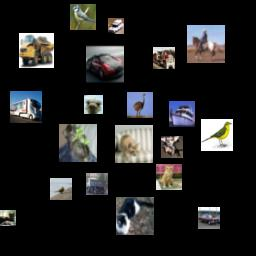automobile: (86, 45, 124, 83), (198, 207, 220, 229), (108, 18, 124, 34)
bird: (201, 119, 233, 151), (70, 4, 96, 30), (127, 92, 153, 118), (50, 178, 72, 200), (84, 95, 103, 114)
cat: (116, 197, 154, 235), (59, 124, 97, 162), (115, 125, 153, 163), (156, 164, 182, 190), (0, 210, 16, 226)
dog: (161, 136, 183, 158)
ship: (169, 101, 195, 127)
truck: (19, 33, 54, 68), (10, 91, 42, 123), (86, 173, 108, 195), (153, 47, 175, 69)
